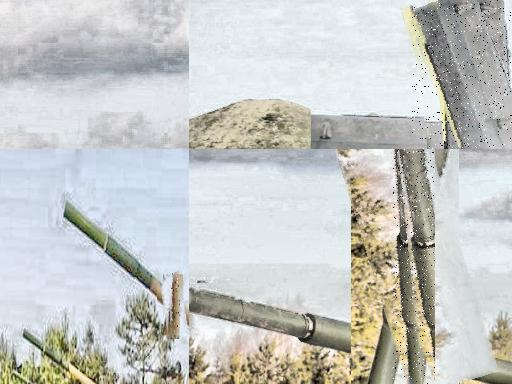tanks: (413, 1, 512, 150), (400, 150, 436, 384), (24, 331, 64, 365), (66, 364, 97, 384), (172, 271, 180, 340), (14, 371, 36, 384)
